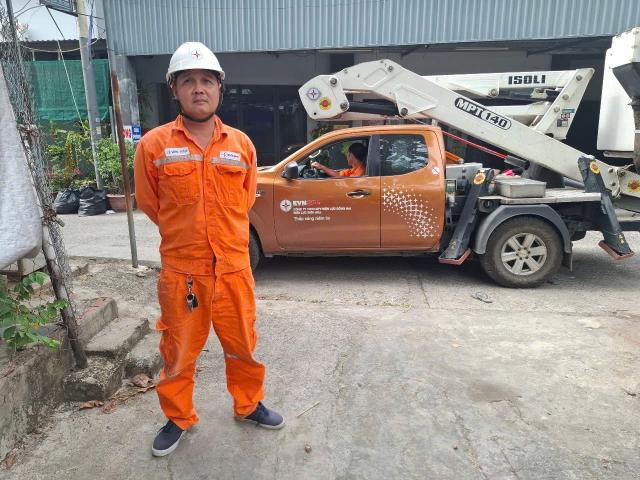helmet: (145, 37, 235, 80)
shoes: (142, 410, 208, 464), (234, 397, 286, 434)
